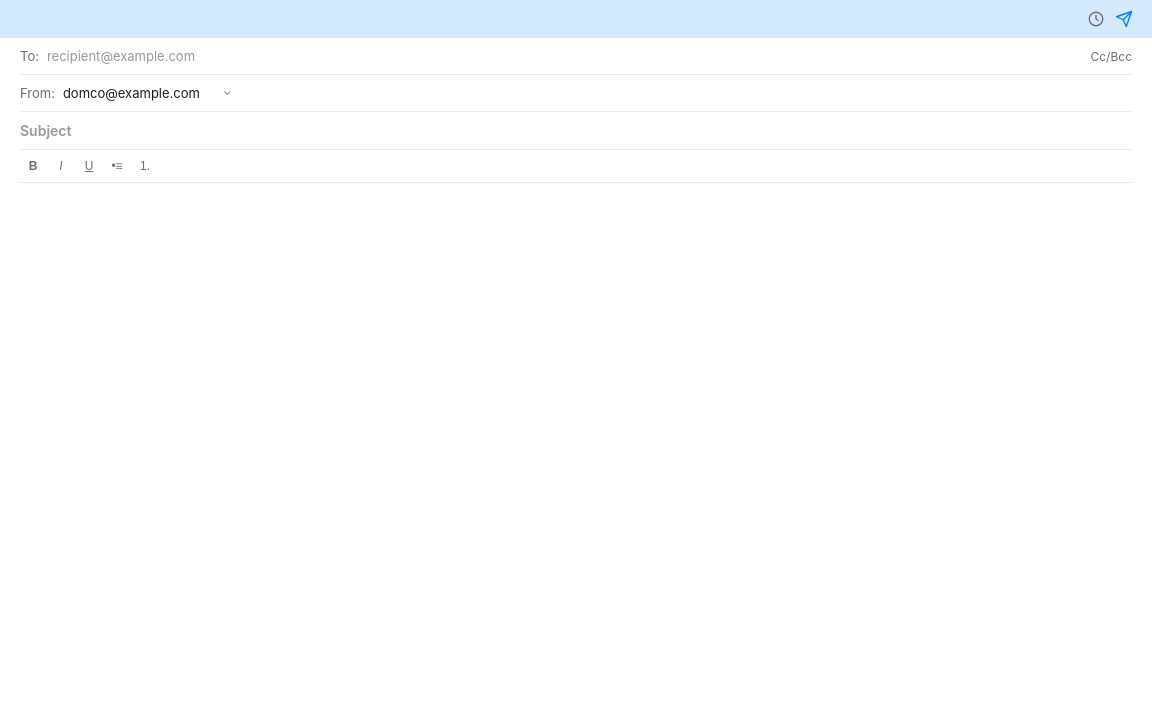
shows the failure and stays open when scheduling fails
Expected: the dropdown named "From" shows "domco@example.com", [63, 85, 215, 101]
Type "bob@example.com" into the field named "To" at (565, 56), box [47, 48, 1082, 64]
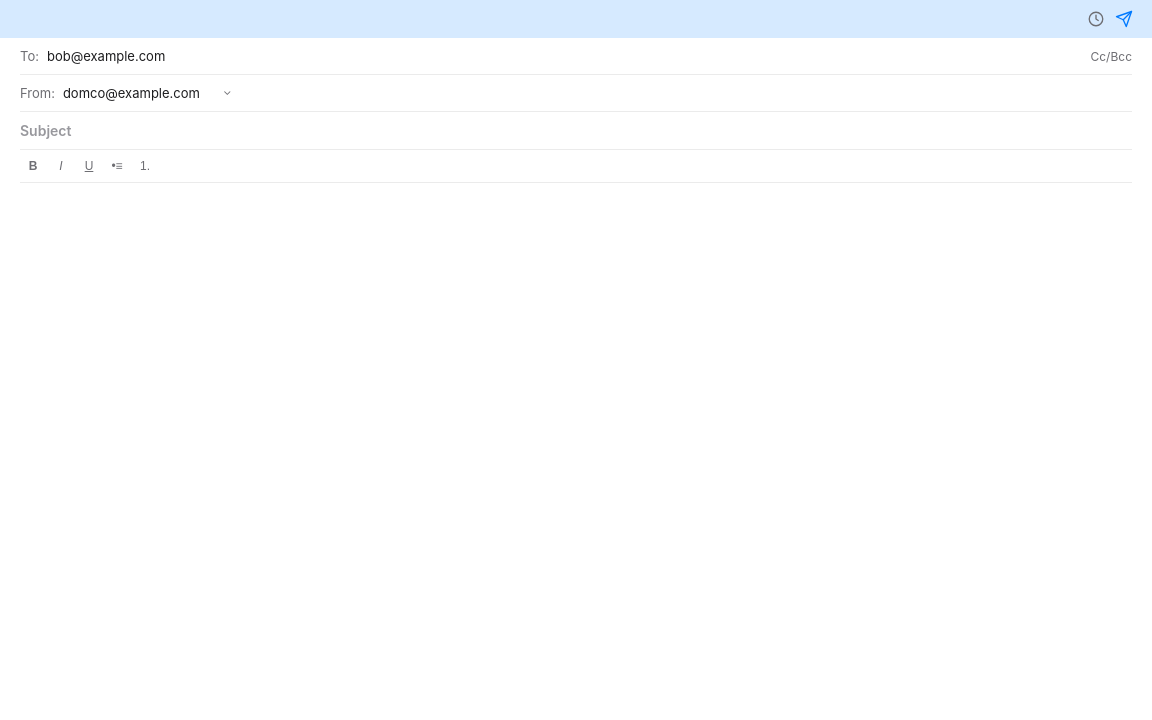
Click the button named "Send later" at (1096, 19), box [1082, 5, 1110, 33]
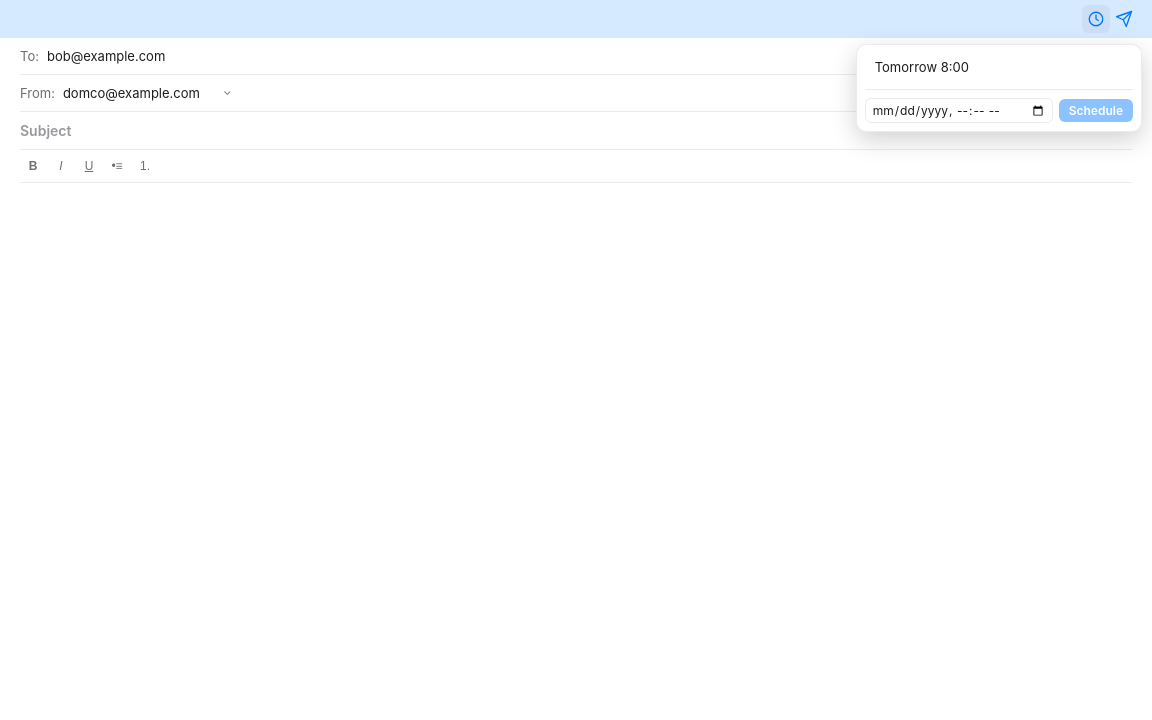
Type "2099-01-01T09:30" into the field named "Send at" at (959, 110), box [865, 98, 1053, 123]
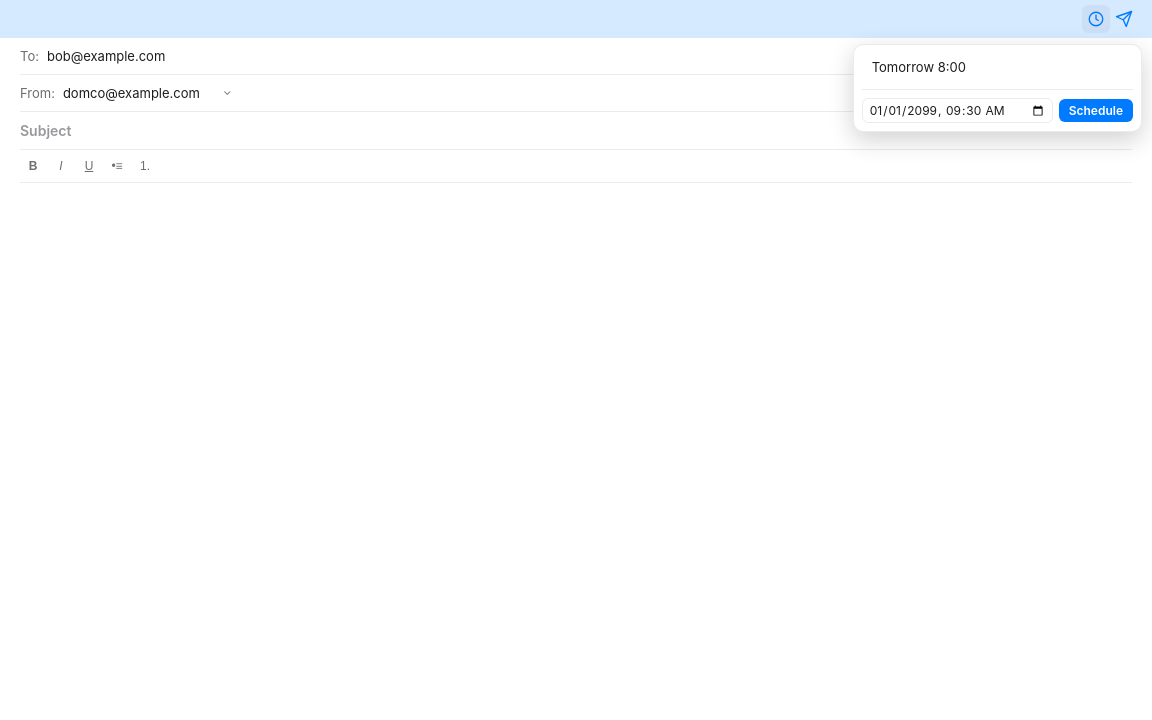
Click the button "Schedule" at (1096, 110), box [1059, 99, 1133, 122]
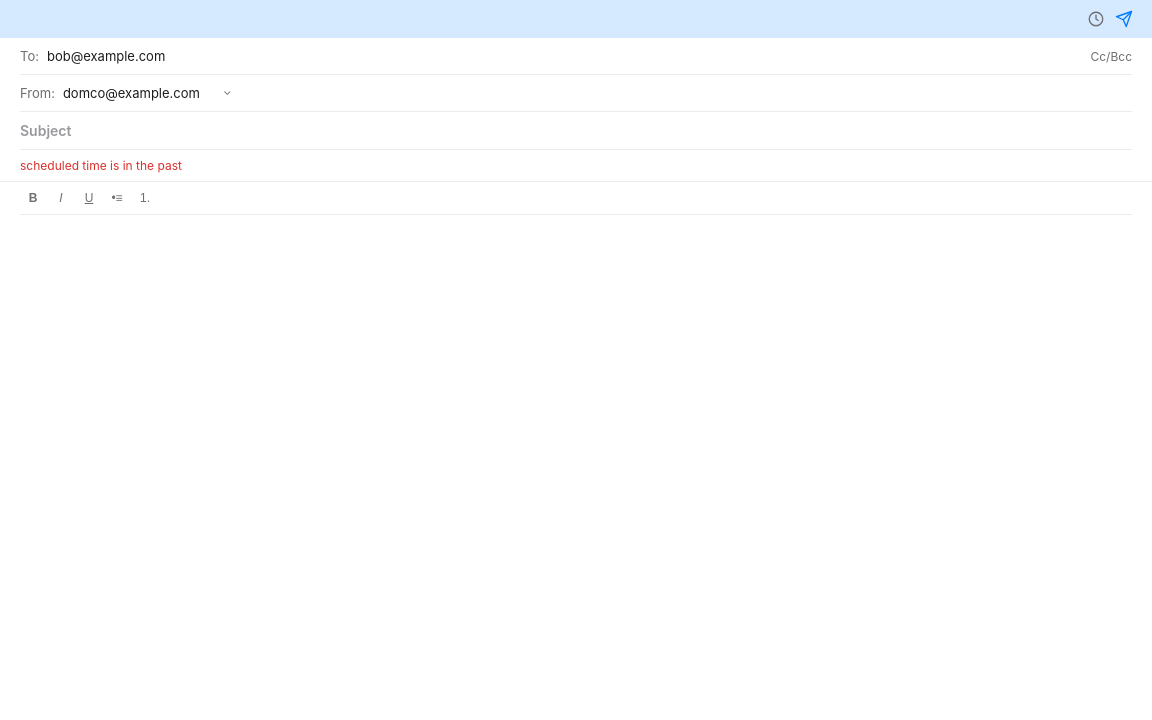
Expected: the message reads "scheduled time is in the past", [20, 158, 182, 173]
